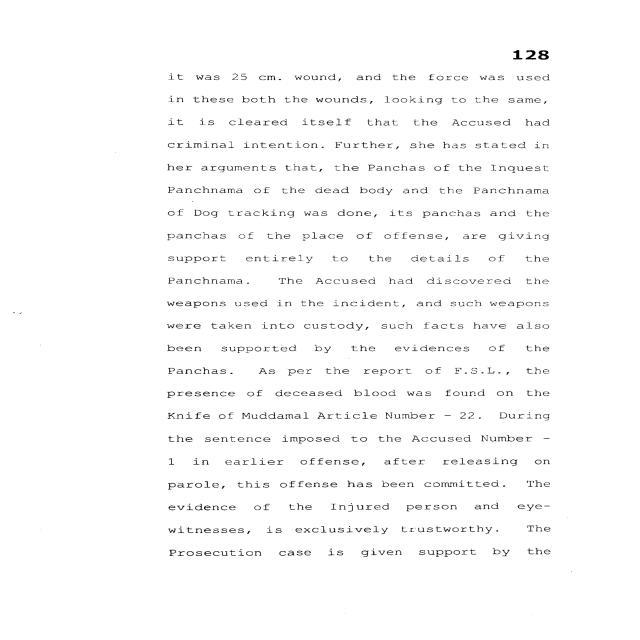page-number: (429, 3, 632, 68)
